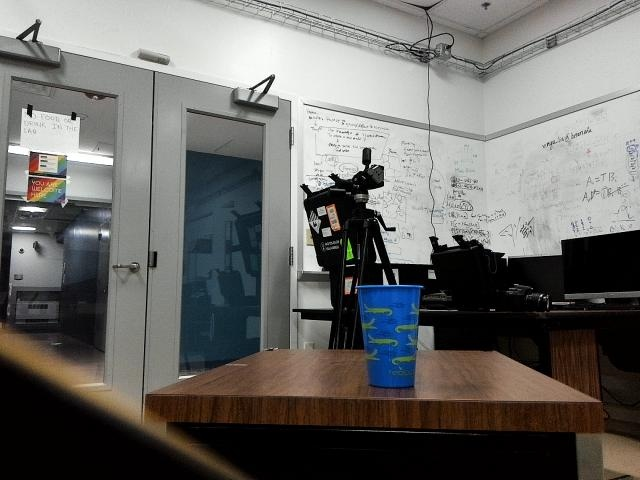water_cup: (344, 282, 432, 392)
